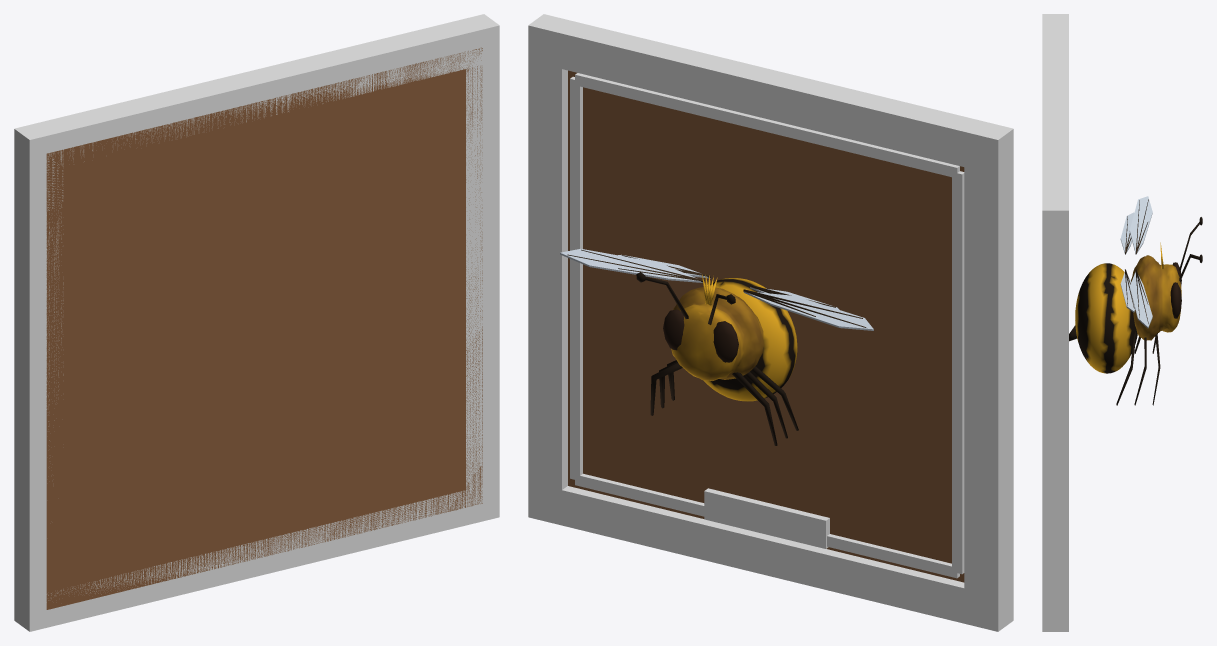
The model's file is queen_bee_trophy_v0.glb.
The picture shows the model from 3 angles, left to right: view 1: azimuth 30°, elevation 25°; view 2: azimuth 150°, elevation 25°; view 3: azimuth 270°, elevation 25°; orthographic projection. The views are drawn at different scales.
Parts seen in each view (by area): view 1: queen_bee_trophy_v0; view 2: queen_bee_trophy_v0; view 3: queen_bee_trophy_v0.
Part boxes in pixels (bbox=[...]): queen_bee_trophy_v0: bbox=[14, 14, 499, 631]; queen_bee_trophy_v0: bbox=[528, 14, 1013, 631]; queen_bee_trophy_v0: bbox=[1042, 14, 1202, 631].
Bounding box in the file's own units: 1.39 × 1.39 × 0.48.
